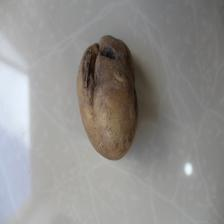Diseased-fungal potato: (76, 33, 138, 162)
